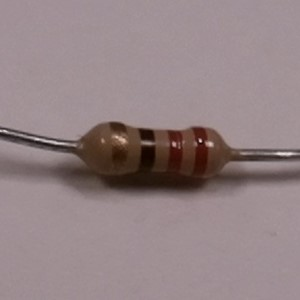brown_band: (136, 126, 159, 177)
gold_band: (107, 119, 132, 181)
red_band: (164, 125, 186, 179), (189, 125, 210, 181)
